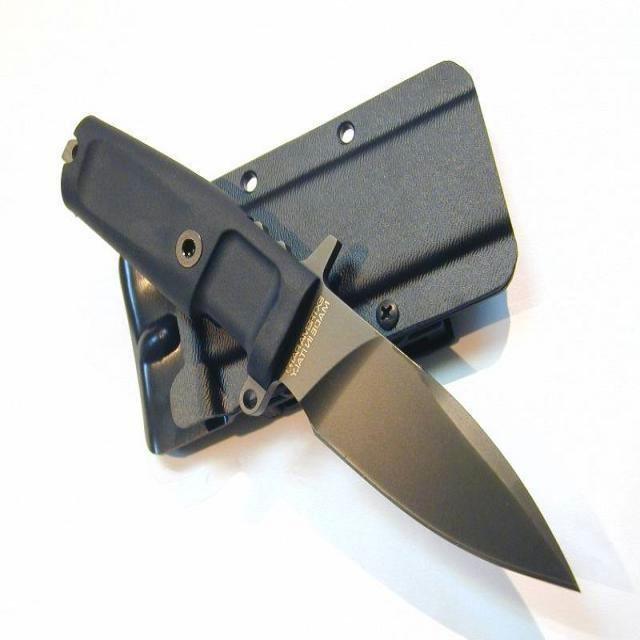Knife: (61, 116, 578, 589)
